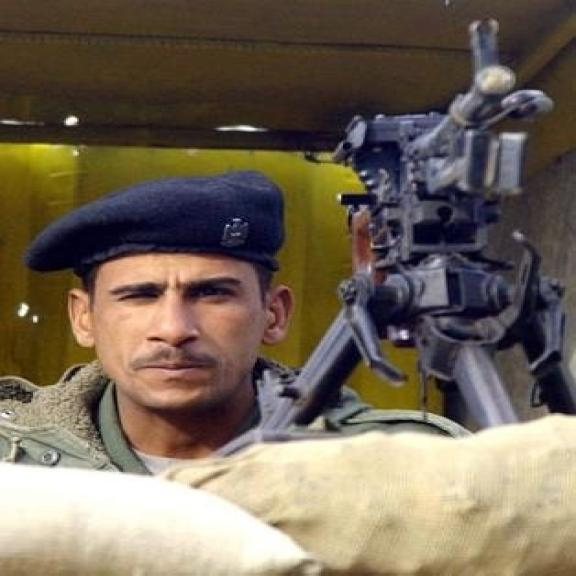face: (65, 253, 298, 416)
